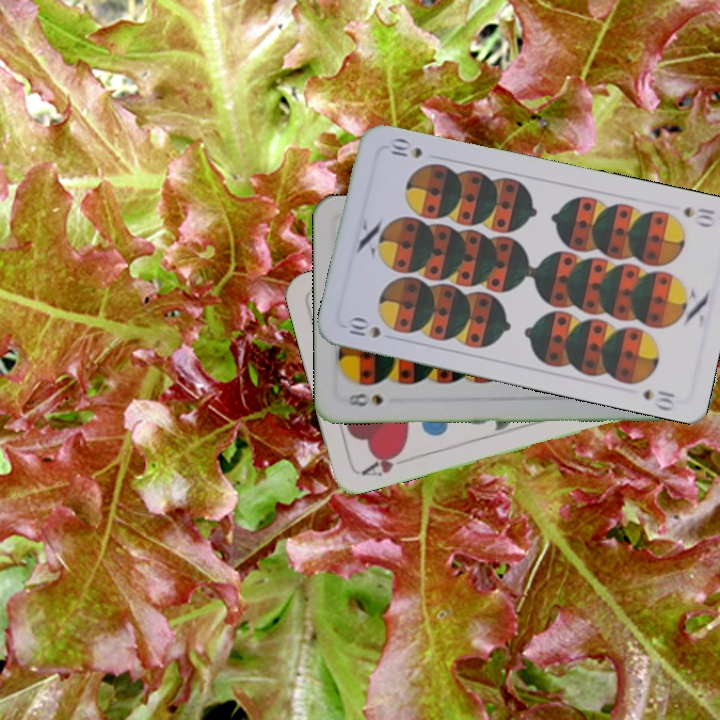HA: (357, 445, 408, 479)
S10: (344, 313, 383, 341), (679, 203, 718, 230)
S8: (339, 389, 385, 409)
